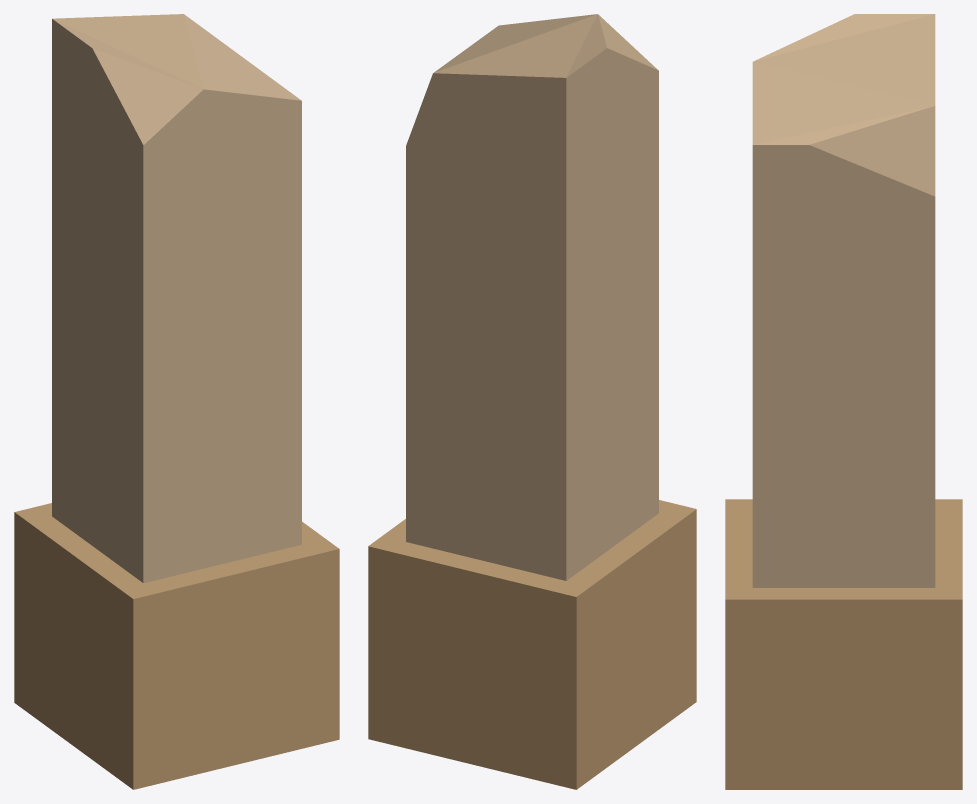
The model's file is Fence_03.fbx.
The picture shows the model from 3 angles, left to right: view 1: azimuth 30°, elevation 25°; view 2: azimuth 150°, elevation 25°; view 3: azimuth 270°, elevation 25°; orthographic projection.
Parts seen in each view (by area): view 1: Object002; view 2: Object002; view 3: Object002.
Part boxes in pixels (left/top/right/bottom): Object002: left=14, top=14, right=339, bottom=789; Object002: left=368, top=14, right=696, bottom=789; Object002: left=725, top=14, right=962, bottom=789.
Bounding box in the file's own units: 10.24 × 32.68 × 10.24.
Materials: 1 (1 with a texture image).
